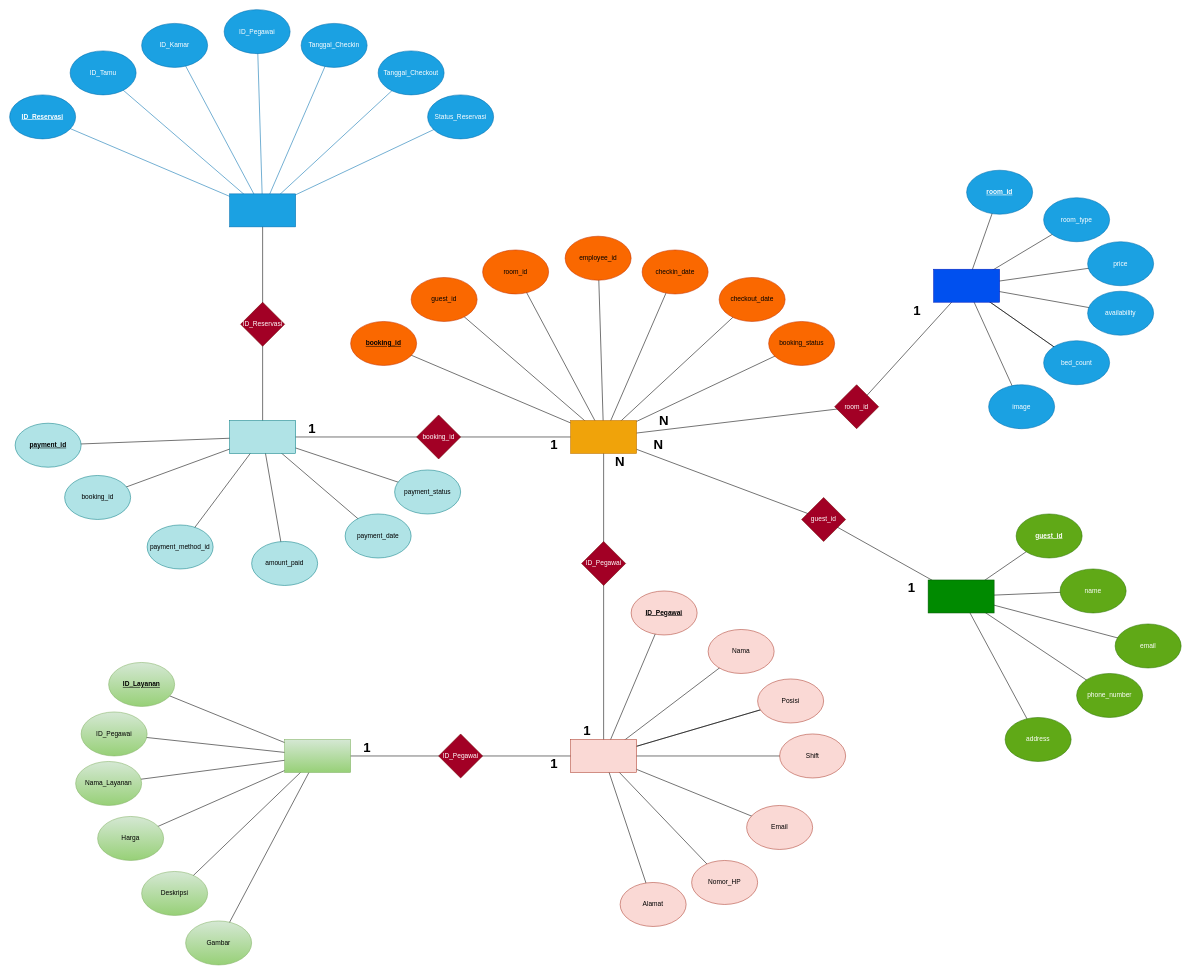
The diagram is 1191 pixels wide and 975 high, and some of its shapes have lost their labels. Here are the shapes that lost their labels. From the top down, the box of each, then its label:
(229, 193, 296, 227): Booking
(933, 269, 1000, 302): Rooms
(229, 420, 296, 453): Payments
(570, 420, 637, 453): Bookings
(928, 579, 994, 613): Guests
(284, 739, 351, 772): Layanan_Tambahan
(570, 739, 637, 772): Pegawai
